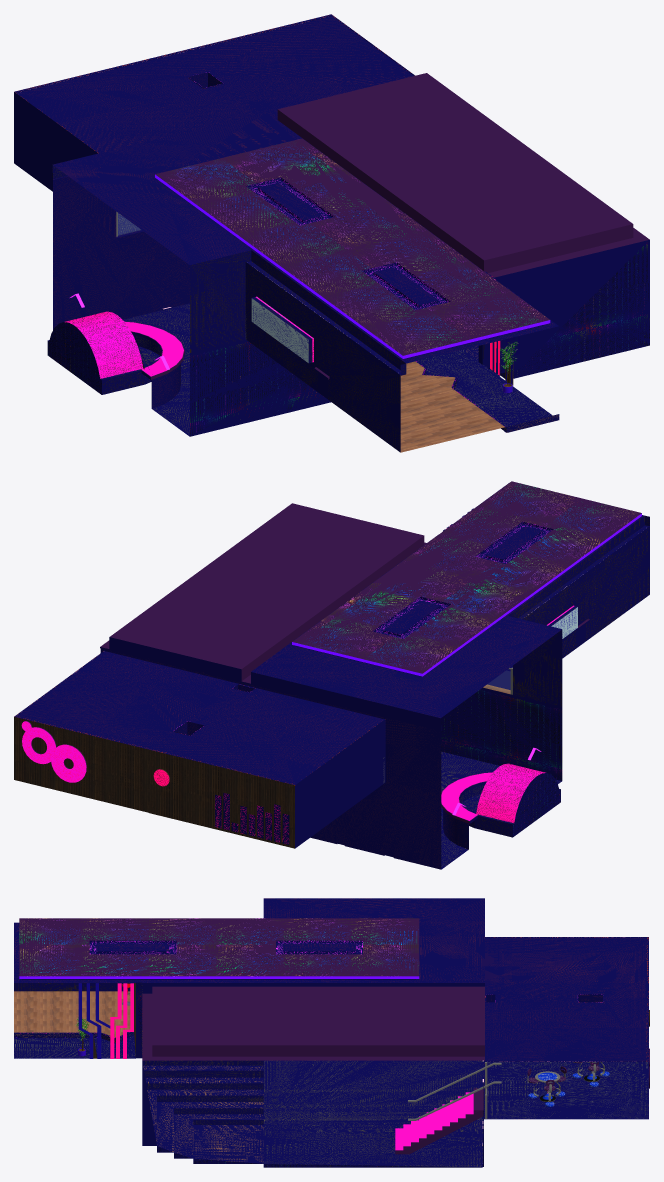
The model's file is nightclub.fbx.
The picture shows the model from 3 angles, top to bottom: view 1: azimuth 30°, elevation 25°; view 2: azimuth 150°, elevation 25°; view 3: azimuth 270°, elevation 25°; orthographic projection. The views are drawn at different scales.
Visible parts, largest first — view 1: Material2.002, Material2.003, Material3, Material3.007, Material3.004, Material3.003, Material2.009, Material2.006, Material2, Material3.006, Material3.011, Material3.005 (+1 smaller); view 2: Material2.002, Material2.003, Material3.007, Material3, Material2.009, Material3.003, Material2.007, Material2.006, Material3.011, Material3.005; view 3: Material2.002, Material2.003, Material3.011, Material3, Material3.004, Material3.006, Material2.006, Material3.002, Material2.009, Material2.021, Material2.010, Material2.004 (+2 smaller).
Boxes of the visible parts, bbox=[...] form: Material2.002: bbox=[14, 14, 649, 452]; Material2.003: bbox=[18, 17, 649, 406]; Material3: bbox=[157, 139, 548, 354]; Material3.007: bbox=[52, 170, 513, 450]; Material3.004: bbox=[400, 346, 559, 452]; Material3.003: bbox=[47, 242, 649, 436]; Material2.009: bbox=[65, 276, 500, 418]; Material2.006: bbox=[155, 174, 550, 358]; Material2: bbox=[251, 298, 308, 362]; Material3.006: bbox=[118, 214, 551, 426]; Material3.011: bbox=[124, 304, 189, 433]; Material3.005: bbox=[70, 72, 448, 369]; Material2.002: bbox=[14, 483, 649, 869]; Material2.003: bbox=[18, 481, 642, 868]; Material3.007: bbox=[14, 516, 649, 848]; Material3: bbox=[297, 482, 639, 671]; Material2.009: bbox=[22, 525, 574, 843]; Material3.003: bbox=[441, 690, 562, 836]; Material2.007: bbox=[21, 721, 86, 782]; Material2.006: bbox=[292, 513, 641, 676]; Material3.011: bbox=[441, 752, 560, 866]; Material3.005: bbox=[174, 523, 551, 815]; Material2.002: bbox=[14, 898, 648, 1167]; Material2.003: bbox=[14, 898, 649, 1119]; Material3.011: bbox=[263, 1060, 483, 1166]; Material3: bbox=[19, 918, 418, 976]; Material3.004: bbox=[14, 991, 263, 1161]; Material3.006: bbox=[14, 1037, 648, 1118]; Material2.006: bbox=[16, 976, 419, 1037]; Material3.002: bbox=[144, 1060, 263, 1124]; Material2.009: bbox=[20, 983, 133, 1058]; Material2.021: bbox=[395, 1088, 483, 1154]; Material2.010: bbox=[78, 983, 110, 1058]; Material2.004: bbox=[408, 1062, 501, 1120].
Bounding box in the file's own units: 60236 × 23780 × 96142.
35 materials, 9 textured.
